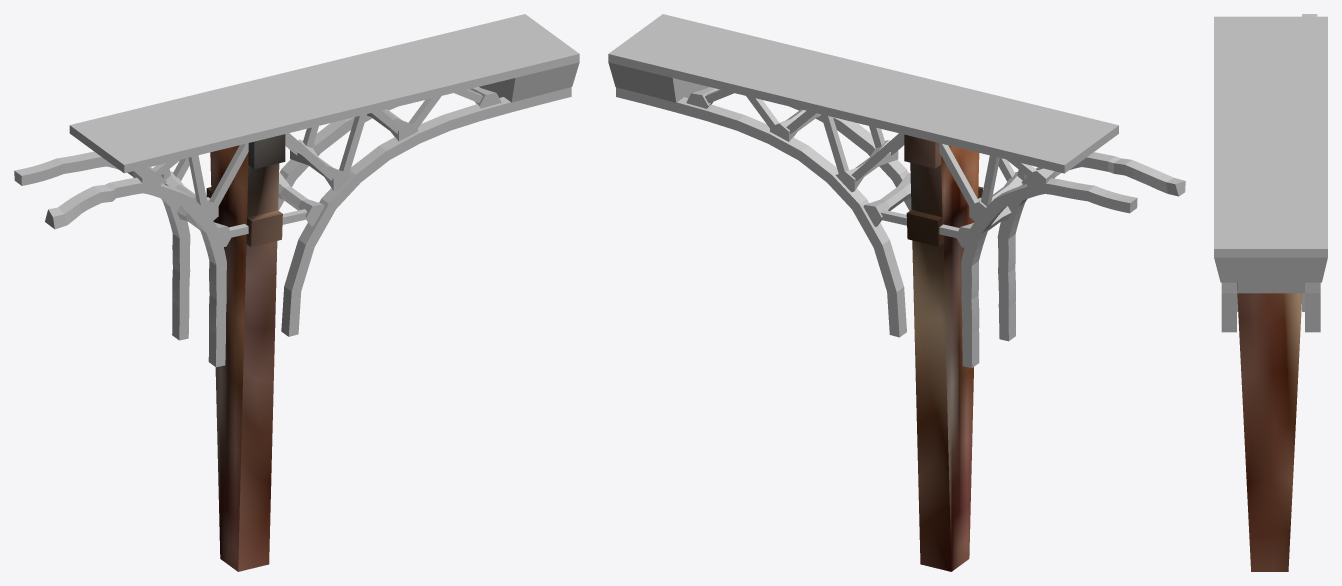
The model's file is 1 models crash.fbx.
3 views of the same model, side by side, from view 1: azimuth 30°, elevation 25°; view 2: azimuth 150°, elevation 25°; view 3: azimuth 270°, elevation 25° (orthographic). The views are drawn at different scales.
Visible parts, largest first — view 1: Cylinder.002; view 2: Cylinder.002; view 3: Cylinder.002.
Boxes of the visible parts, x1,y1,x2,y2 form: Cylinder.002: (14, 14, 579, 571); Cylinder.002: (608, 14, 1185, 571); Cylinder.002: (1214, 14, 1327, 571).
Bounding box in the file's own units: 7415 × 6100 × 1333.
